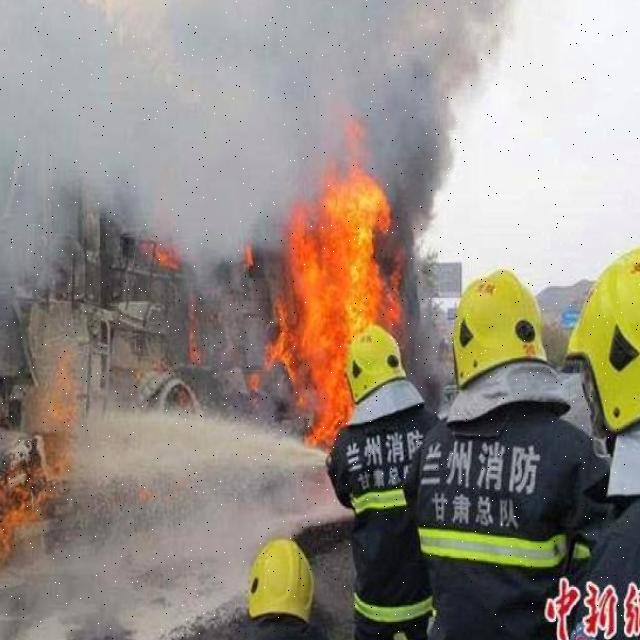fire: (278, 154, 432, 451)
